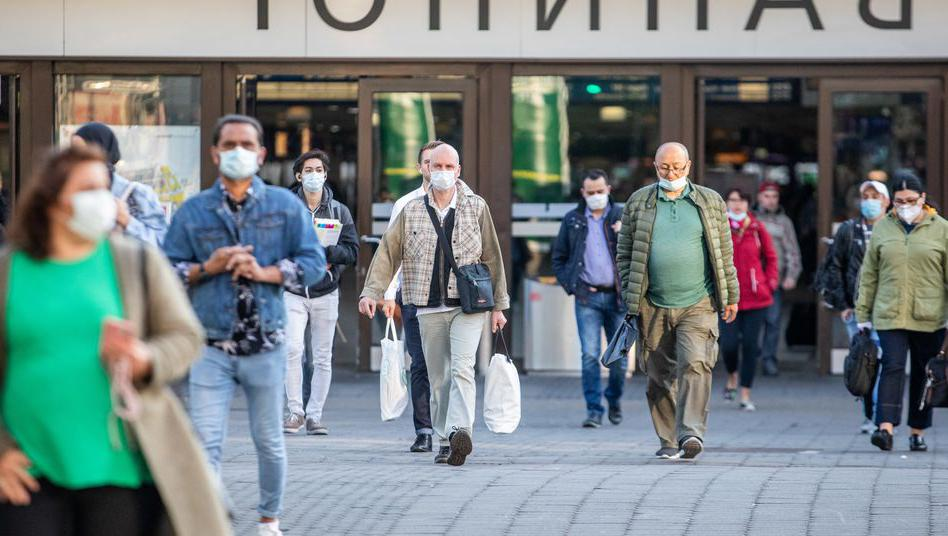mask_weared_incorrect: (657, 158, 686, 188), (728, 198, 747, 220)
with_mask: (64, 179, 118, 236), (219, 135, 257, 170), (427, 158, 458, 190), (895, 193, 921, 221), (584, 183, 607, 210), (302, 165, 324, 186), (859, 193, 882, 211)
without_mask: (762, 193, 779, 210)
